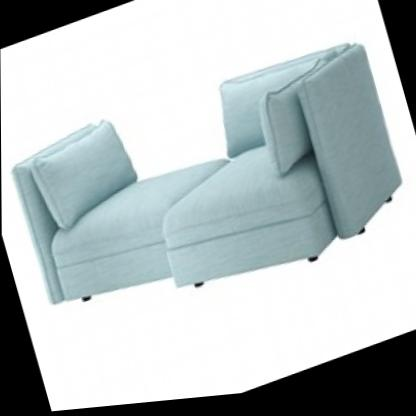Sofa: (0, 3, 416, 369)
